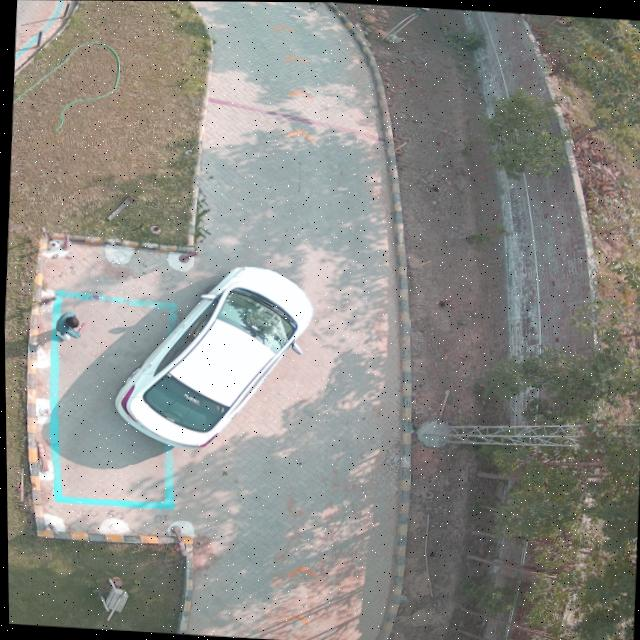car: (113, 265, 310, 446)
